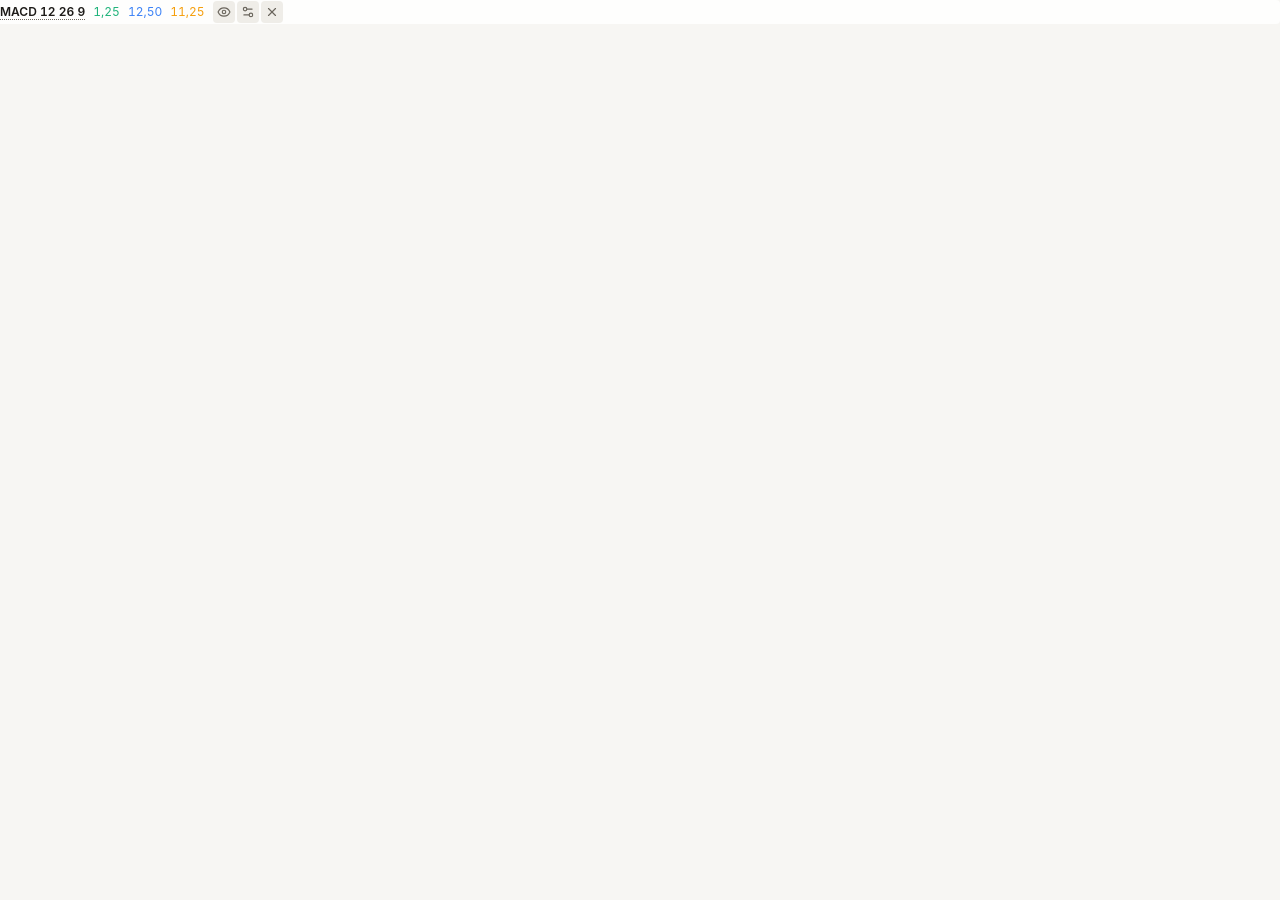
IndicatorLegendRow › tocar no nome abre o que é e como ler; Esc fecha
Click the button "MACD 12 26 9".
click(43, 12)  # box [0,4,85,20]
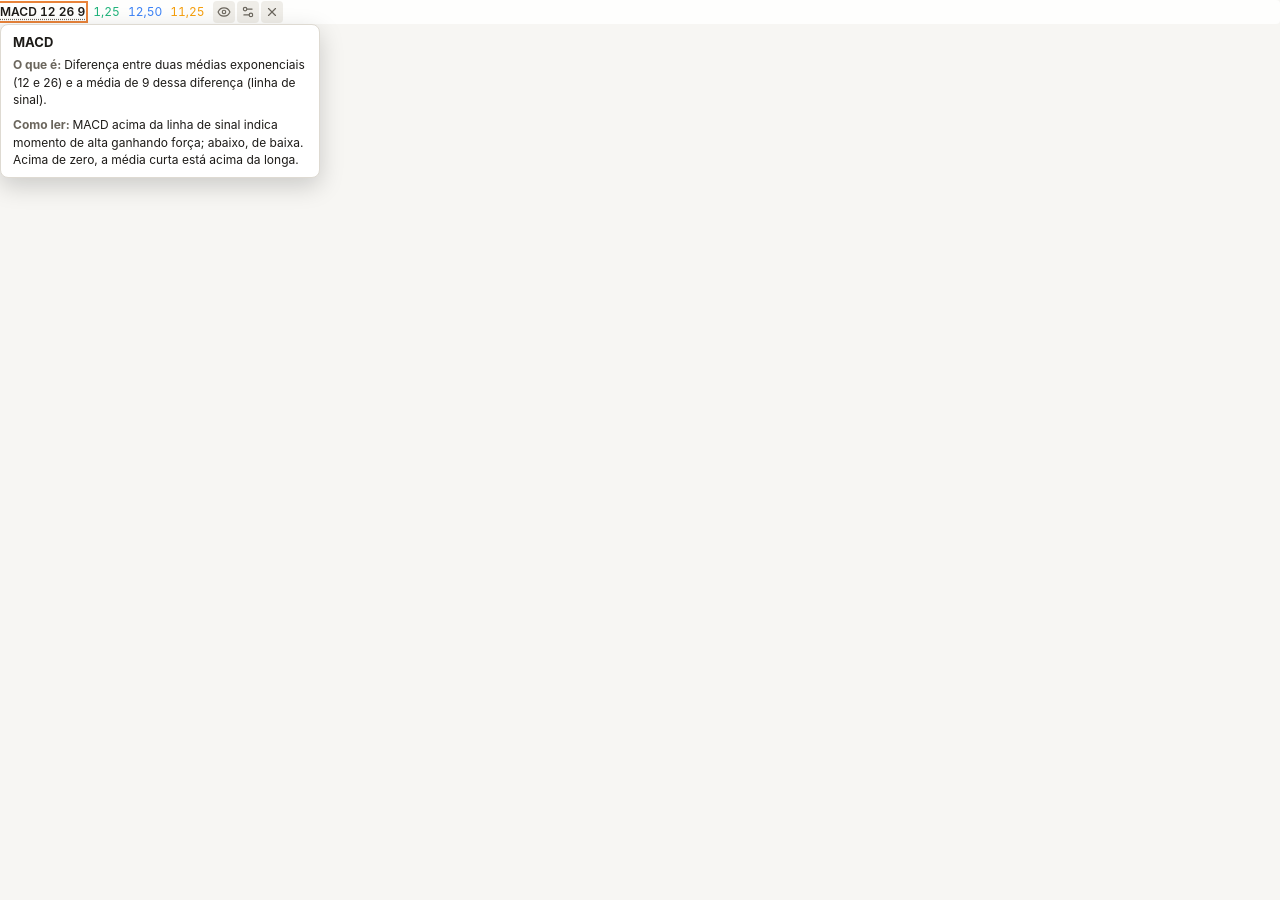
Press Escape
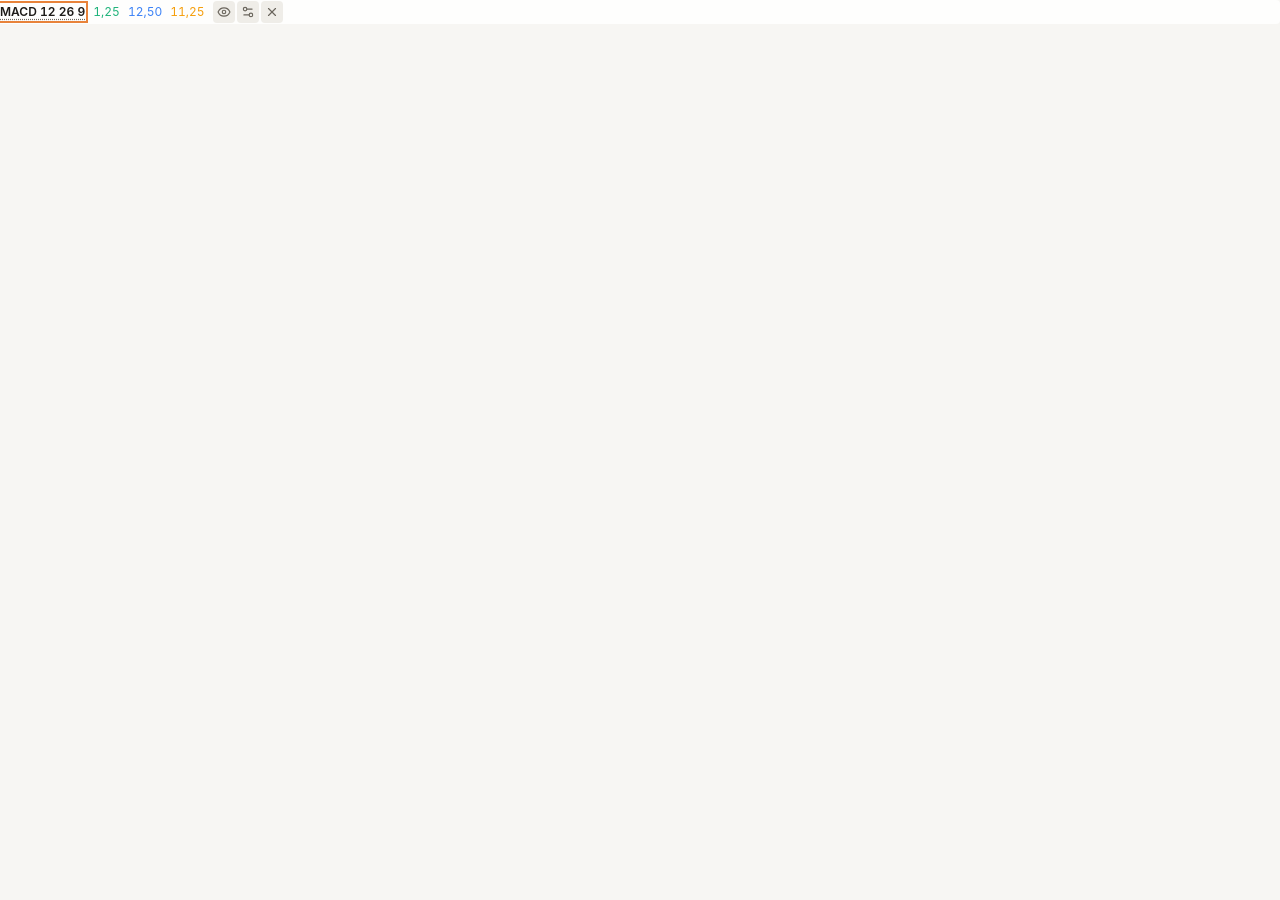
Now the dialog is gone
